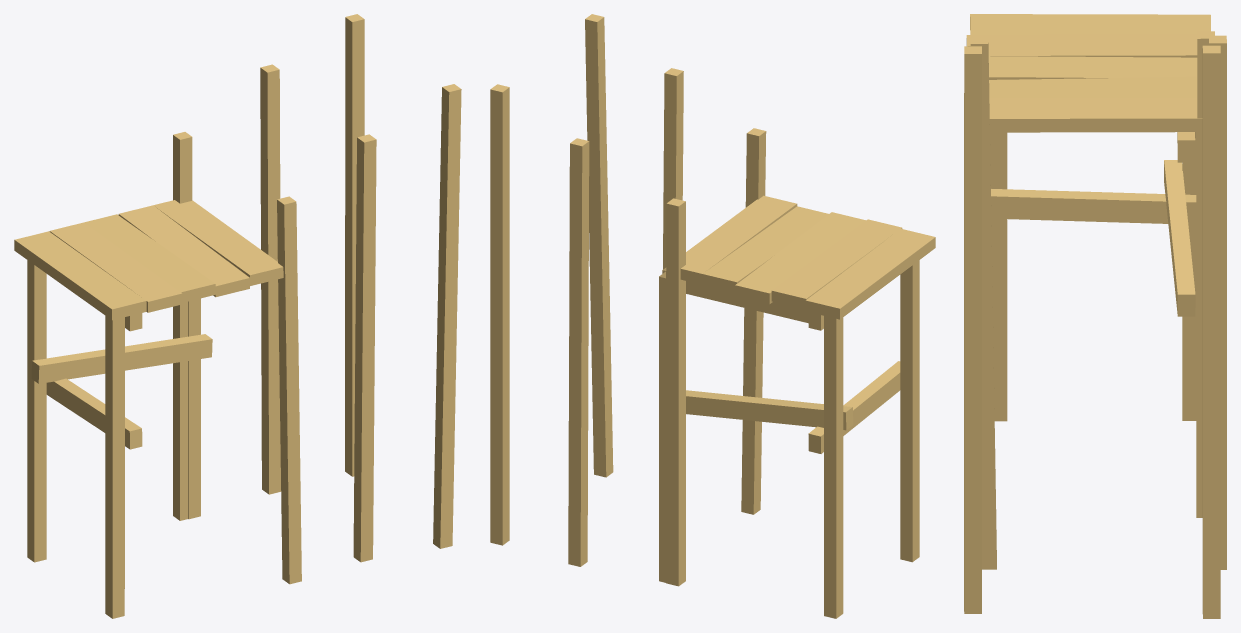
Rendered from stairkjdshjhf.fbx.
The picture shows the model from 3 angles, left to right: view 1: azimuth 30°, elevation 25°; view 2: azimuth 150°, elevation 25°; view 3: azimuth 270°, elevation 25°; orthographic projection. The views are drawn at different scales.
Visible parts, largest first — view 1: MERDIVEN.001; view 2: MERDIVEN.001; view 3: MERDIVEN.001.
Boxes of the visible parts, bbox=[...] form: MERDIVEN.001: bbox=[14, 14, 461, 618]; MERDIVEN.001: bbox=[490, 14, 935, 618]; MERDIVEN.001: bbox=[964, 14, 1226, 618].
Bounding box in the file's own units: 1246 × 1556 × 655.
